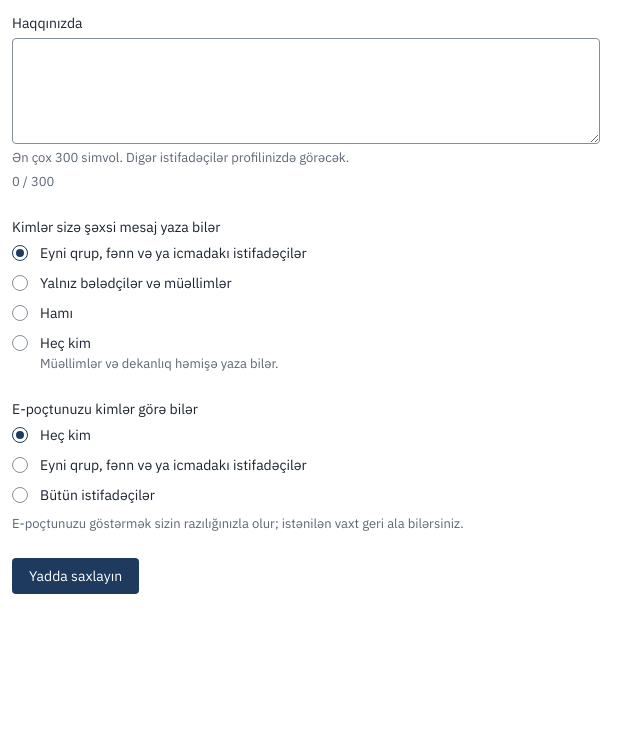
Test case: ProfileForm › explains a conflicting edit and offers a reload
Click the button "Yadda saxlayın". click: (76, 576)
box: [12, 558, 139, 594]
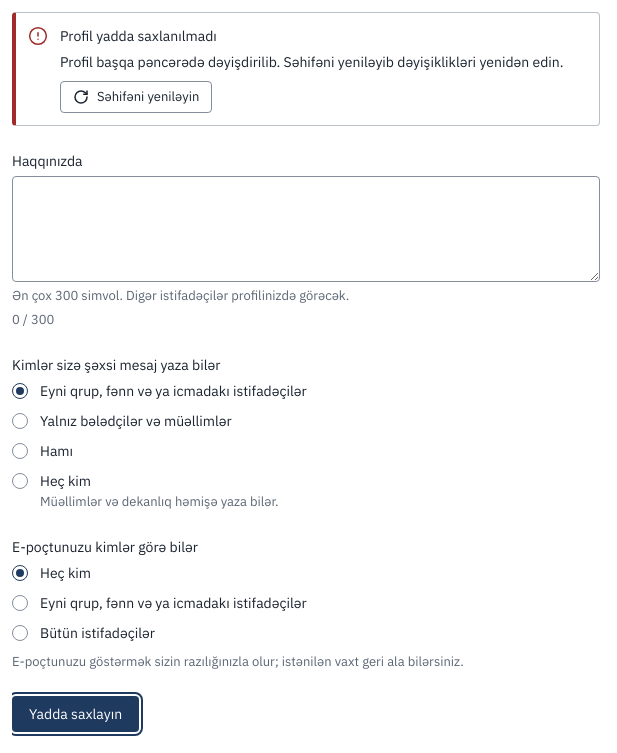
Result: the message shows "Profil başqa pəncərədə dəyişdirilib." at [60, 53, 564, 71]
Result: the button "Səhifəni yeniləyin" is shown at [60, 81, 212, 113]
